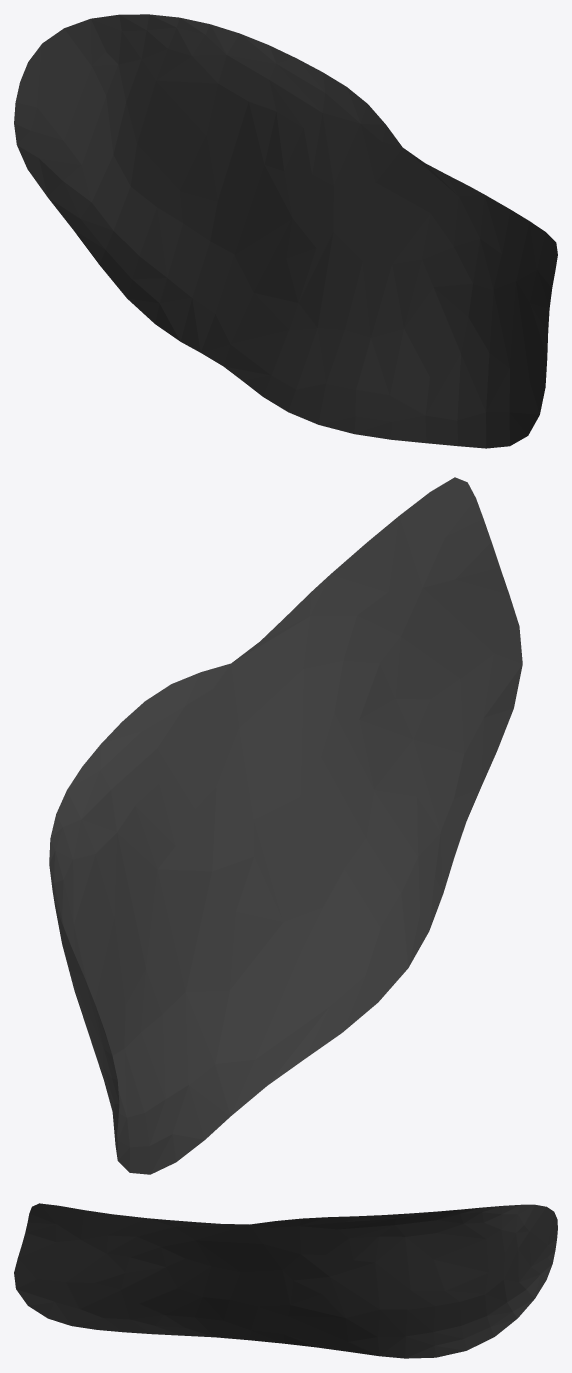
File: Ulna_circumference_articular.glb
The picture shows the model from 3 angles, top to bottom: view 1: azimuth 30°, elevation 25°; view 2: azimuth 150°, elevation 25°; view 3: azimuth 270°, elevation 25°; orthographic projection. The views are drawn at different scales.
Parts seen in each view (by area): view 1: Ulna_circumference_articular; view 2: Ulna_circumference_articular; view 3: Ulna_circumference_articular.
Boxes of the visible parts, x1,y1,x2,y2 form: Ulna_circumference_articular: (14, 14, 557, 448); Ulna_circumference_articular: (49, 477, 522, 1174); Ulna_circumference_articular: (14, 1203, 557, 1358).
Size of the model in its own units: 0.0412 by 0.0722 by 0.1941.
Materials: 1 (1 with a texture image).
